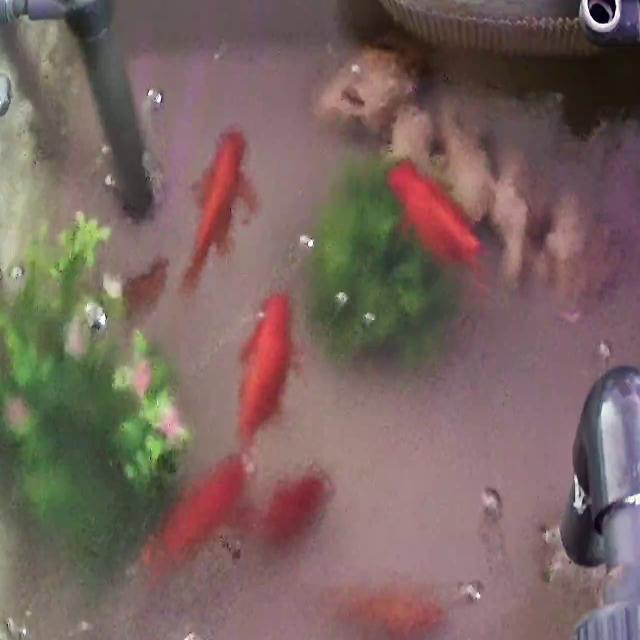fish: (138, 451, 250, 581), (391, 159, 492, 295), (182, 122, 248, 296), (237, 290, 295, 450), (258, 467, 332, 548), (338, 583, 436, 640), (121, 256, 170, 325)
